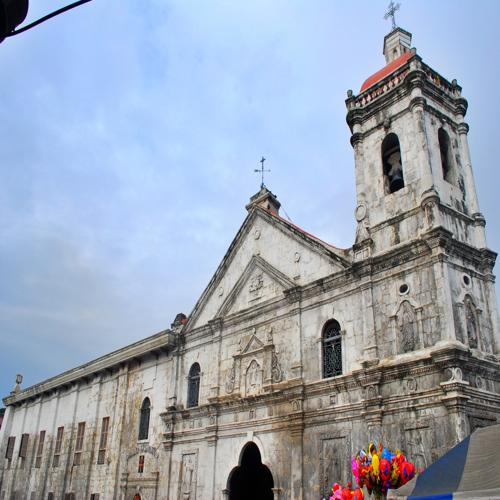Sto. Nino Basilica Church: (147, 3, 500, 499)
